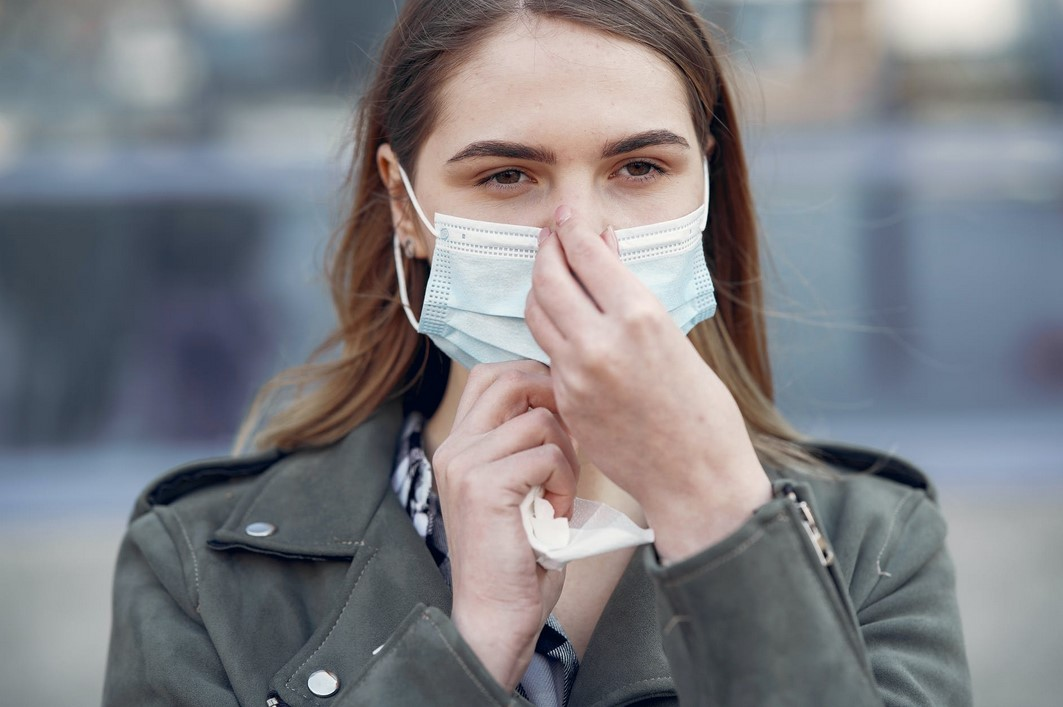face_with_mask: (360, 1, 723, 409)
